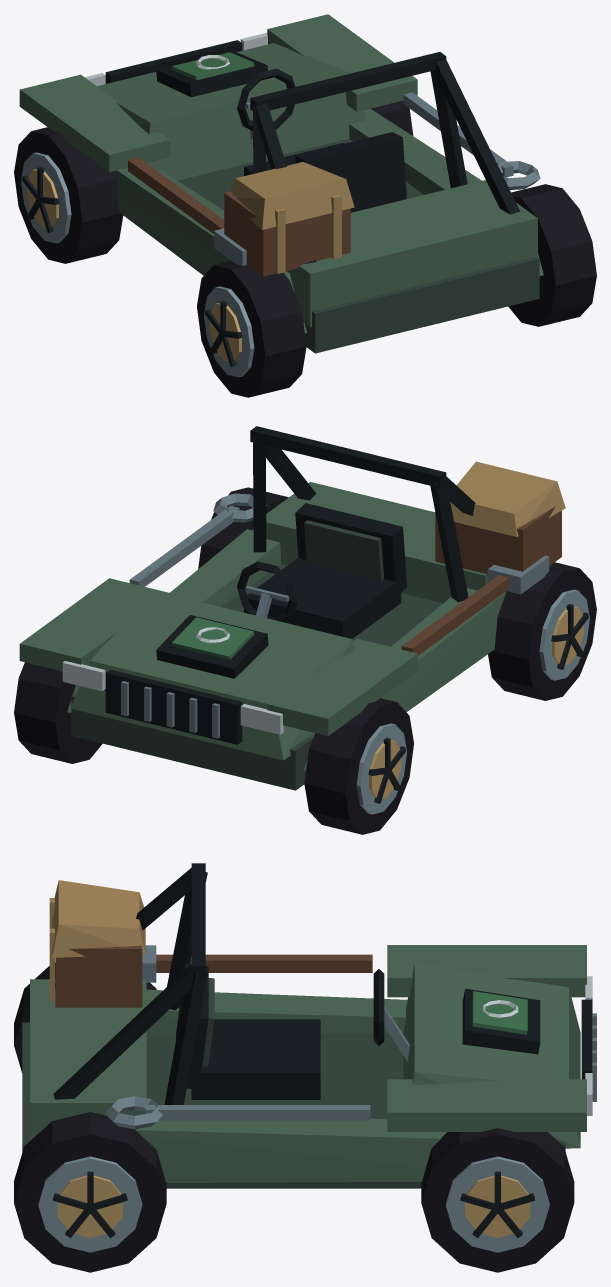
Rendered from kart.glb.
The picture shows the model from 3 angles, top to bottom: view 1: azimuth 30°, elevation 25°; view 2: azimuth 150°, elevation 25°; view 3: azimuth 270°, elevation 25°; orthographic projection. The views are drawn at different scales.
Parts seen in each view (by area): view 1: identity-jeep-jeep-offroad-frame, wheel-rear-left, identity-jeep-motif-treasure, wheel-front-left, wheel-rear-right, identity-jeep-driver-cockpit, identity-jeep-motif-tools, identity-jeep-motif-scanner, wheel-front-right; view 2: identity-jeep-jeep-offroad-frame, identity-jeep-driver-cockpit, wheel-front-left, wheel-rear-left, identity-jeep-motif-treasure, identity-jeep-motif-tools, wheel-front-right, identity-jeep-motif-scanner, wheel-rear-right; view 3: identity-jeep-jeep-offroad-frame, wheel-rear-right, wheel-front-right, identity-jeep-driver-cockpit, identity-jeep-motif-treasure, identity-jeep-motif-tools, identity-jeep-motif-scanner, wheel-rear-left.
Part boxes in pixels (x1,y1,x2,y2): identity-jeep-jeep-offroad-frame: (19, 14, 543, 353); wheel-rear-left: (197, 261, 306, 397); identity-jeep-motif-treasure: (224, 162, 354, 276); wheel-front-left: (14, 127, 123, 263); wheel-rear-right: (508, 184, 596, 326); identity-jeep-driver-cockpit: (237, 68, 406, 212); identity-jeep-motif-tools: (128, 92, 540, 265); identity-jeep-motif-scanner: (156, 51, 267, 97); wheel-front-right: (370, 100, 413, 135); identity-jeep-jeep-offroad-frame: (19, 426, 505, 790); identity-jeep-driver-cockpit: (237, 503, 406, 638); wheel-front-left: (304, 698, 413, 834); wheel-rear-left: (488, 562, 596, 700); identity-jeep-motif-treasure: (435, 461, 565, 576); identity-jeep-motif-tools: (129, 493, 549, 655); wheel-front-right: (14, 662, 102, 763); identity-jeep-motif-scanner: (156, 615, 268, 678); wheel-rear-right: (198, 487, 288, 569); identity-jeep-jeep-offroad-frame: (22, 863, 596, 1188); wheel-rear-right: (14, 1112, 166, 1272); wheel-front-right: (421, 1128, 574, 1272); identity-jeep-driver-cockpit: (176, 964, 409, 1099); identity-jeep-motif-treasure: (49, 880, 145, 1007); identity-jeep-motif-tools: (104, 945, 372, 1129); identity-jeep-motif-scanner: (462, 988, 540, 1054); wheel-rear-left: (14, 963, 156, 1072).
Bounding box in the file's own units: 2.13 × 1.39 × 2.75.
